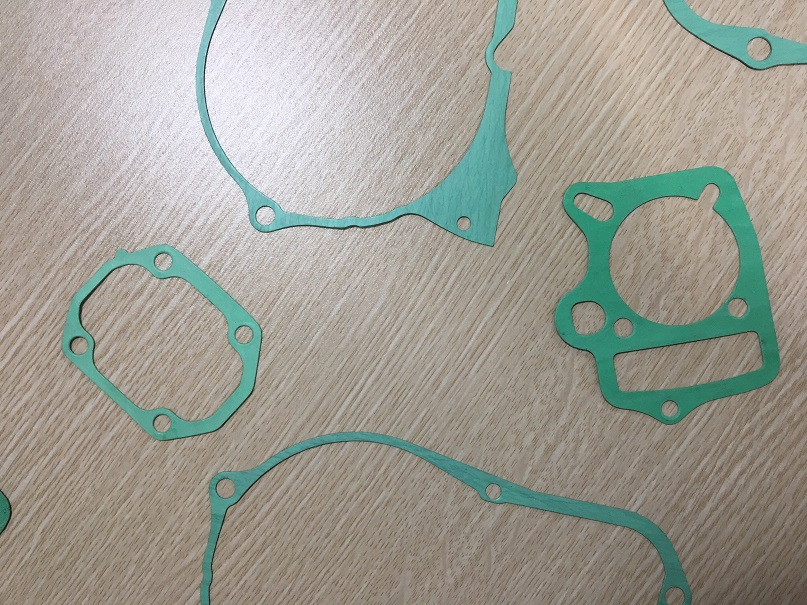type2: (57, 239, 272, 442)
type4: (545, 168, 778, 435)
